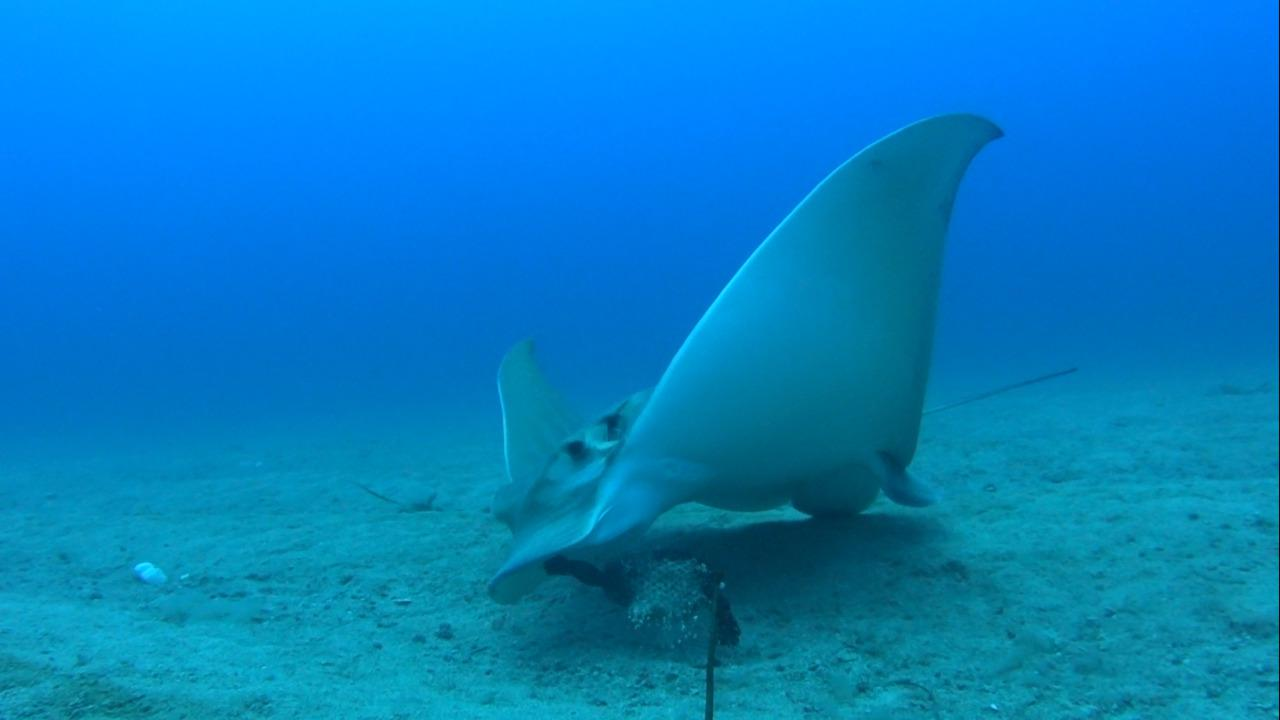myliobatis: (479, 107, 1087, 619)
